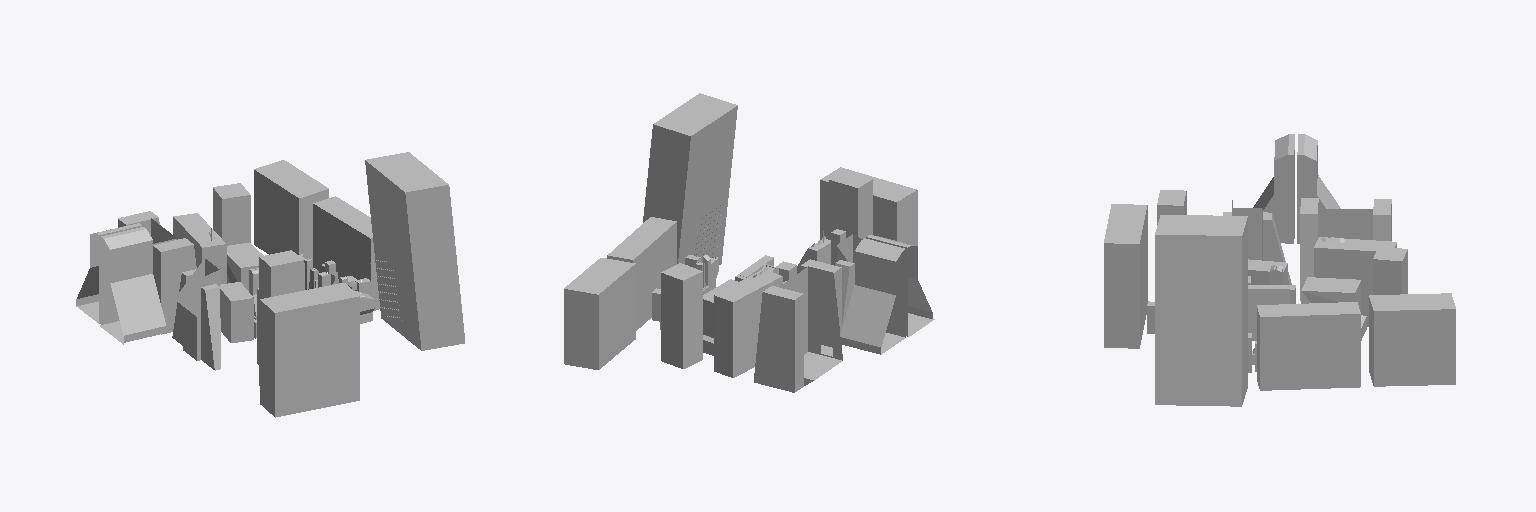
The model's file is city2.obj.
The picture shows the model from 3 angles: view 1: azimuth 30°, elevation 25°; view 2: azimuth 150°, elevation 25°; view 3: azimuth 270°, elevation 25°; orthographic projection.
Visible parts, largest first — view 1: black; view 2: black; view 3: black.
Part boxes in pixels (x1,y1,x2,y2): black: (76, 152, 464, 417); black: (564, 93, 934, 392); black: (1104, 134, 1455, 406).
Size of the model in its own units: 8474 by 4591 by 8615.